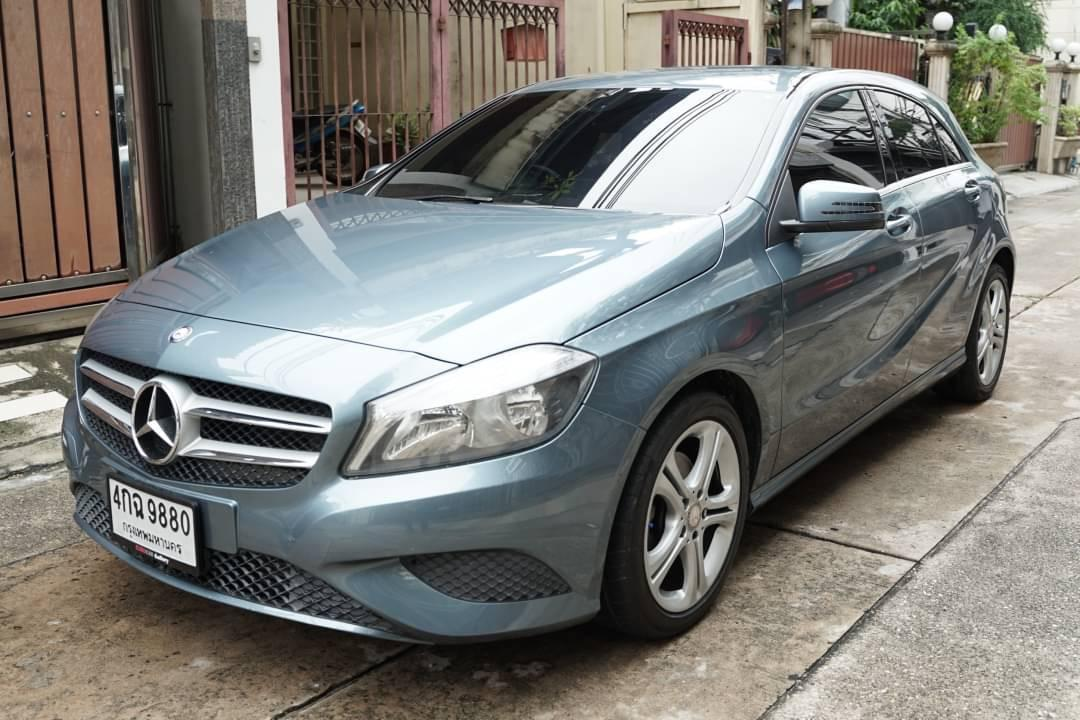license-plate: (103, 470, 208, 578)
